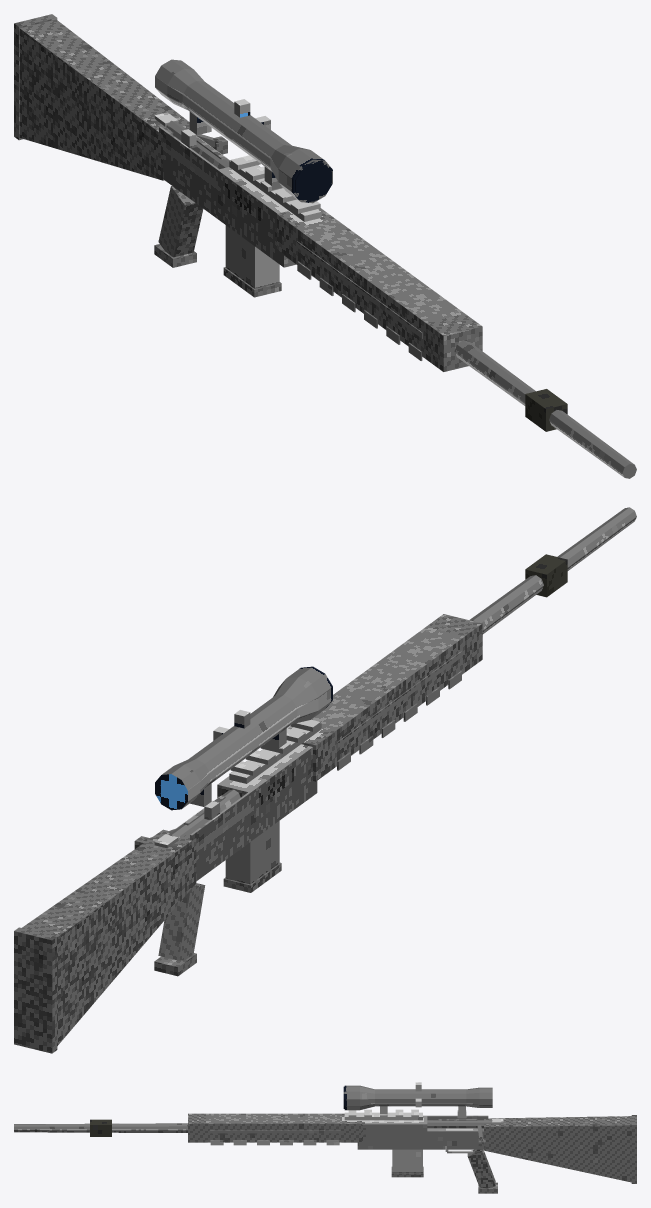
File: wpn_lrx7_harbinger.glb
The picture shows the model from 3 angles, top to bottom: view 1: azimuth 30°, elevation 25°; view 2: azimuth 150°, elevation 25°; view 3: azimuth 270°, elevation 25°; orthographic projection. The views are drawn at different scales.
Parts seen in each view (by area): view 1: prop, opt_stock_std, opt_optic_scope, opt_mag_std, bolt, opt_deco_tape; view 2: prop, opt_stock_std, opt_optic_scope, opt_mag_std, bolt, opt_deco_tape; view 3: prop, opt_stock_std, opt_optic_scope, opt_mag_std, bolt, opt_deco_tape.
Boxes of the visible parts, x1,y1,x2,y2 form: prop: [154, 126, 636, 478]; opt_stock_std: [14, 14, 189, 180]; opt_optic_scope: [155, 59, 332, 203]; opt_mag_std: [223, 225, 281, 297]; bolt: [154, 112, 229, 169]; opt_deco_tape: [525, 389, 567, 431]; prop: [154, 507, 636, 976]; opt_stock_std: [14, 829, 196, 1053]; opt_optic_scope: [155, 666, 332, 810]; opt_mag_std: [223, 821, 281, 892]; bolt: [134, 789, 240, 848]; opt_deco_tape: [525, 554, 567, 597]; prop: [14, 1109, 497, 1193]; opt_stock_std: [484, 1115, 636, 1183]; opt_optic_scope: [343, 1082, 492, 1116]; opt_mag_std: [391, 1149, 423, 1177]; bolt: [427, 1119, 503, 1148]; opt_deco_tape: [90, 1119, 111, 1136].
Size of what is drawn, in the model's own units: 0.0885 by 0.271 by 1.43.
1 material, 1 textured.
